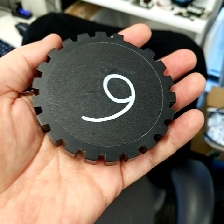gear: (30, 30, 177, 167)
missing: (112, 33, 156, 61)
